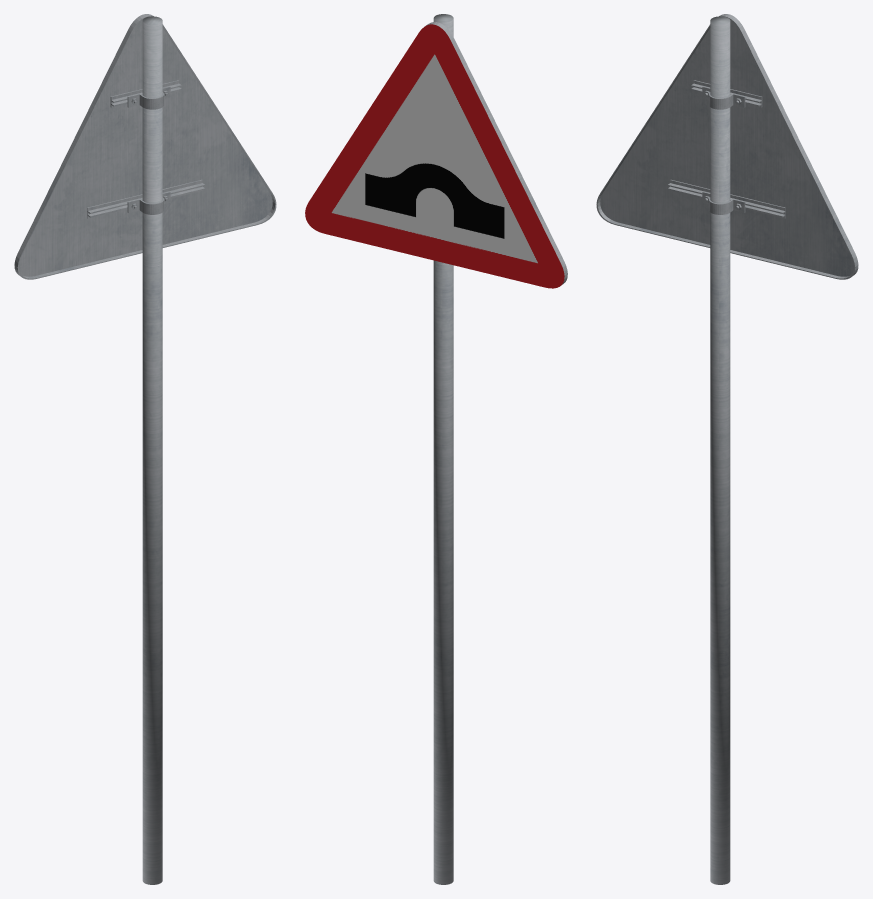
The model's file is Road_bumps_v4.fbx.
3 renders of one model, left to right at view 1: azimuth 30°, elevation 25°; view 2: azimuth 150°, elevation 25°; view 3: azimuth 330°, elevation 25°, orthographic.
Visible parts, largest first — view 1: Road bumps v4; view 2: Road bumps v4; view 3: Road bumps v4.
Boxes of the visible parts, <box> form: Road bumps v4: <box>14,14,276,884</box>; Road bumps v4: <box>305,14,567,884</box>; Road bumps v4: <box>596,14,858,884</box>.
Size of the model in its own units: 0.0876 by 0.9002 by 2.86.
